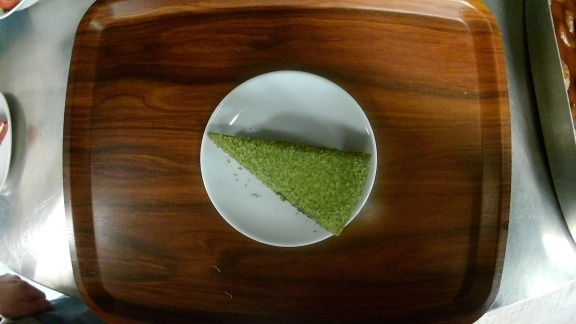fistiklipasta: (201, 68, 379, 249)
